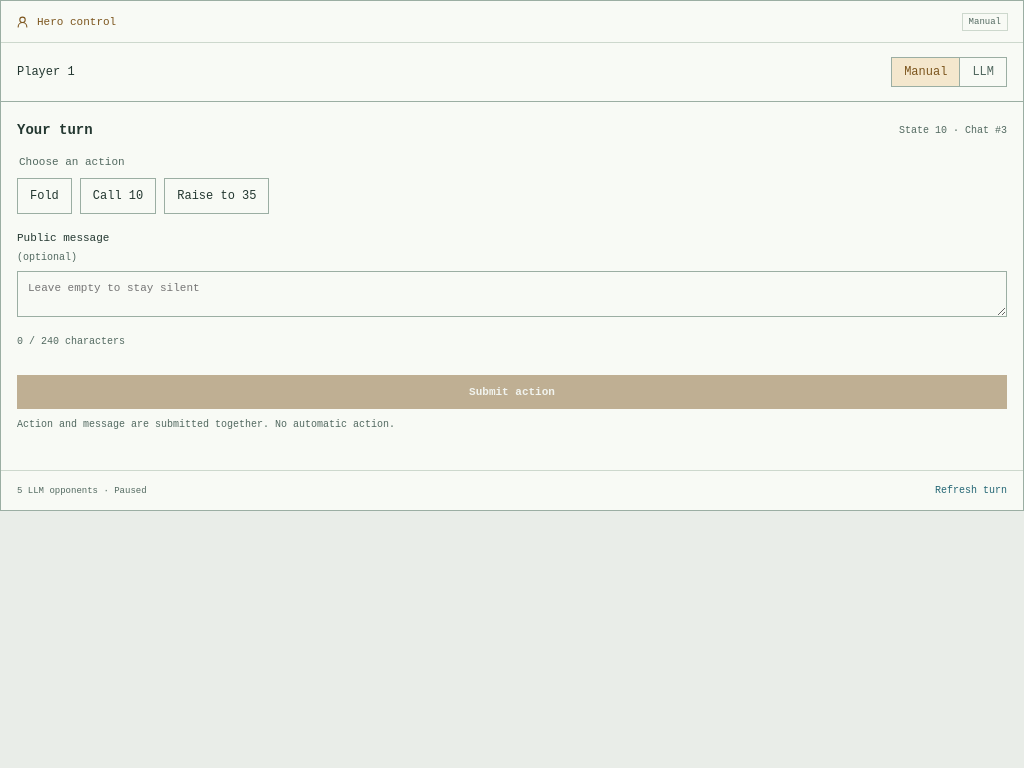
Test: manual hero › switches only hero control at the observed version and waits for the authoritative mode
Click the button "LLM" at x=983, y=72, box [960,58,1006,86]
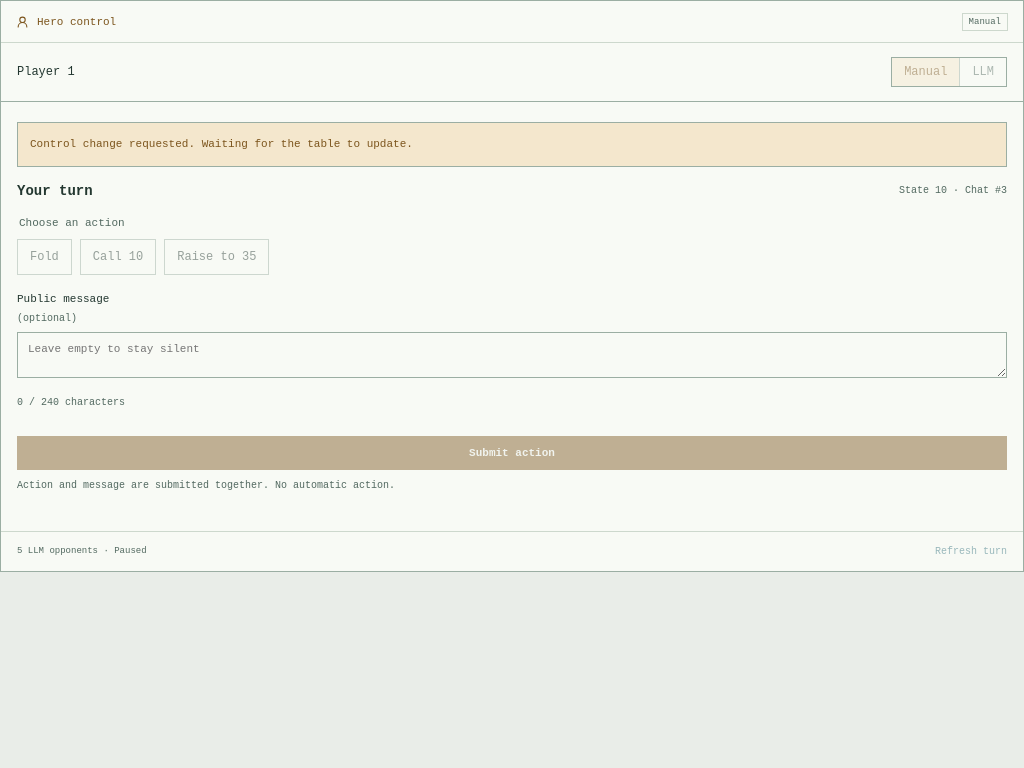
Expected: the text "Control change requested. Waiting for the table to update." is shown, [17,122,1007,167]
